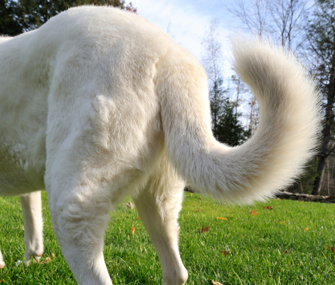tail: (164, 39, 322, 212)
